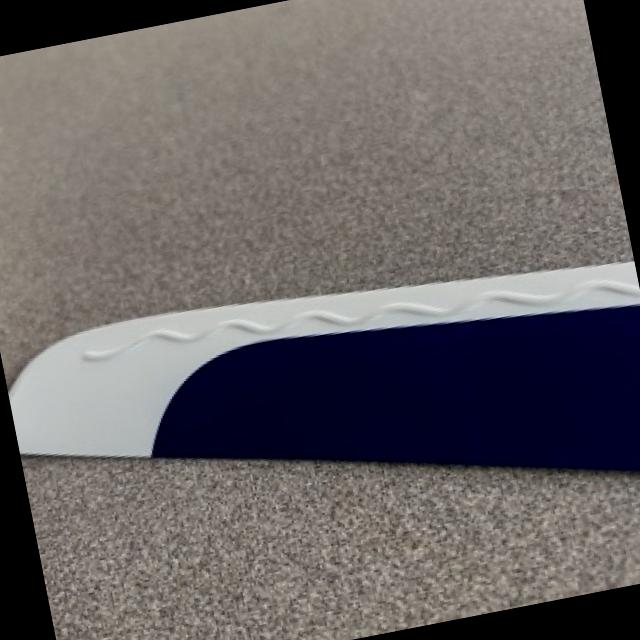healthy: (10, 259, 640, 465)
